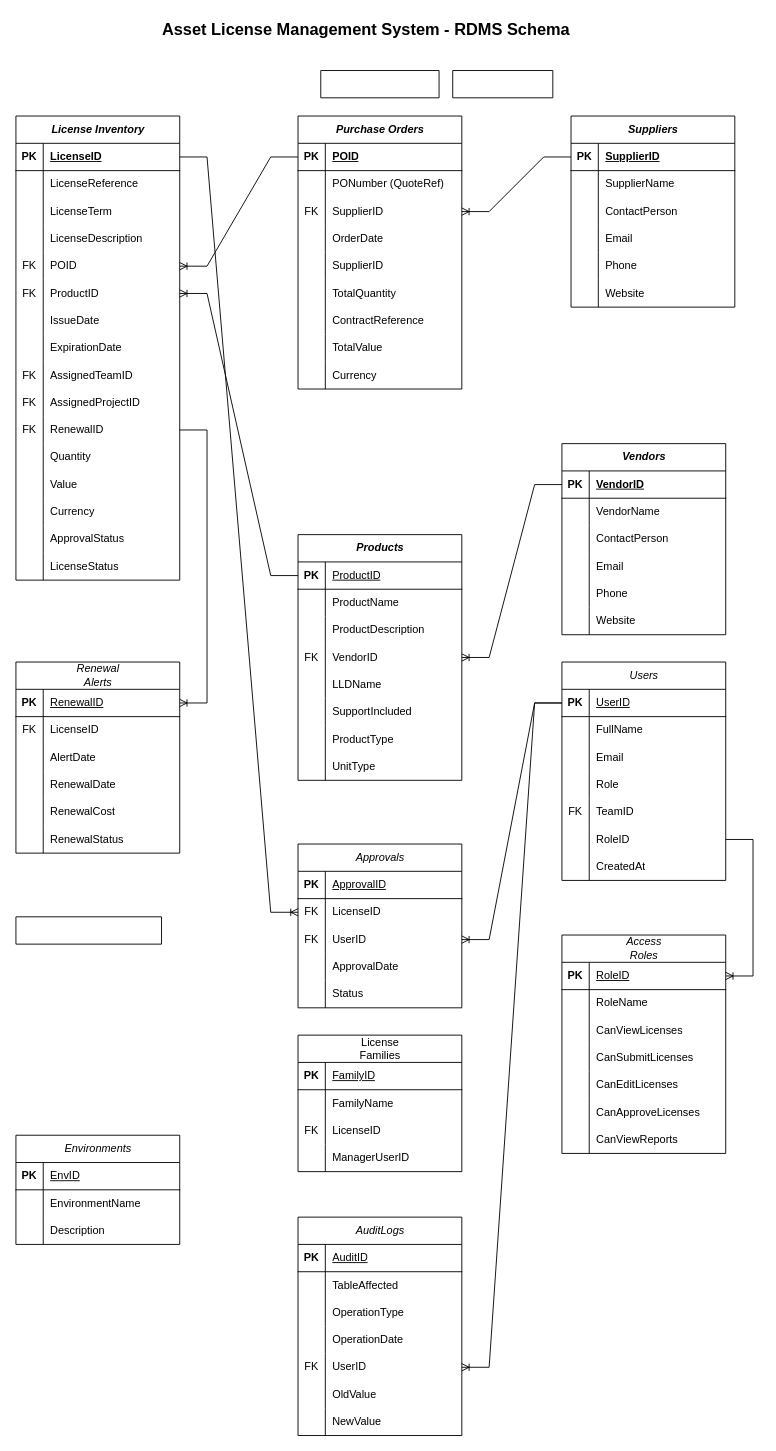
The diagram is 776 pixels wide and 1451 high, and some of its shapes have lost their labels. The centre of each missing label's shape, as x and y in pixels:
License Products: (379,84)
LicenseEnvironments: (88,930)
Projects: (502,84)
